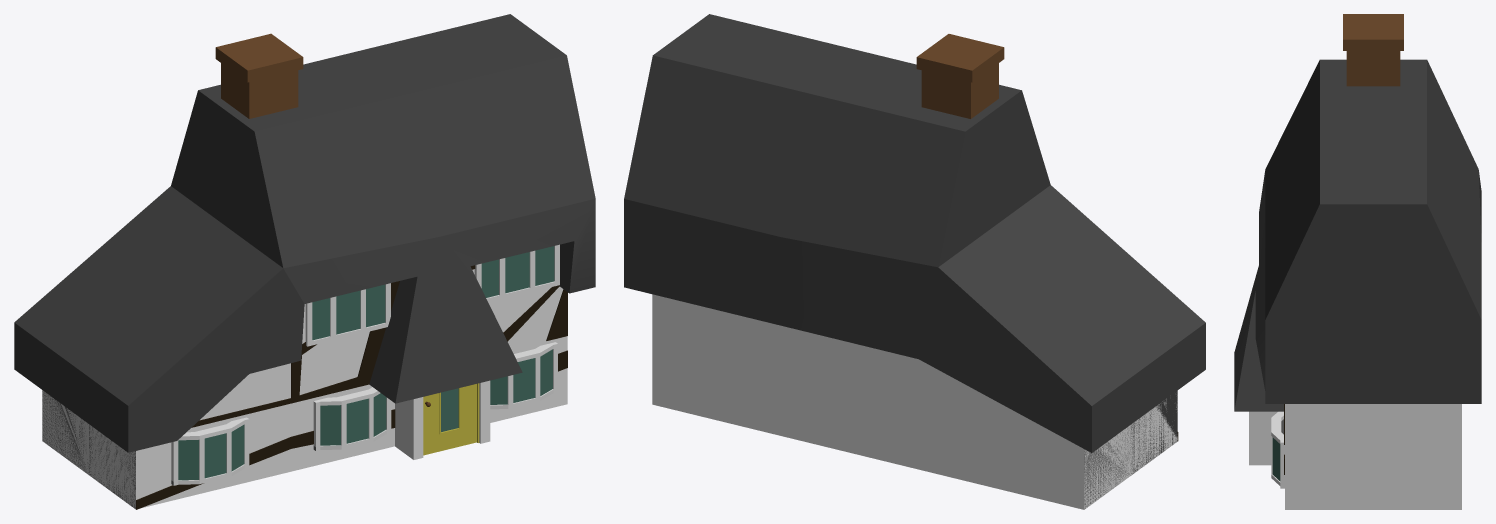
File: TT_Cottage.fbx
3 renders of one model, left to right at view 1: azimuth 30°, elevation 25°; view 2: azimuth 150°, elevation 25°; view 3: azimuth 270°, elevation 25°, orthographic. The views are drawn at different scales.
Visible parts, largest first — view 1: Cottage; view 2: Cottage; view 3: Cottage.
Boxes of the visible parts, left/top/right/bottom form: Cottage: left=14, top=14, right=595, bottom=509; Cottage: left=624, top=14, right=1205, bottom=509; Cottage: left=1234, top=14, right=1481, bottom=509.
Size of the model in its own units: 1290 by 1006 by 623.
